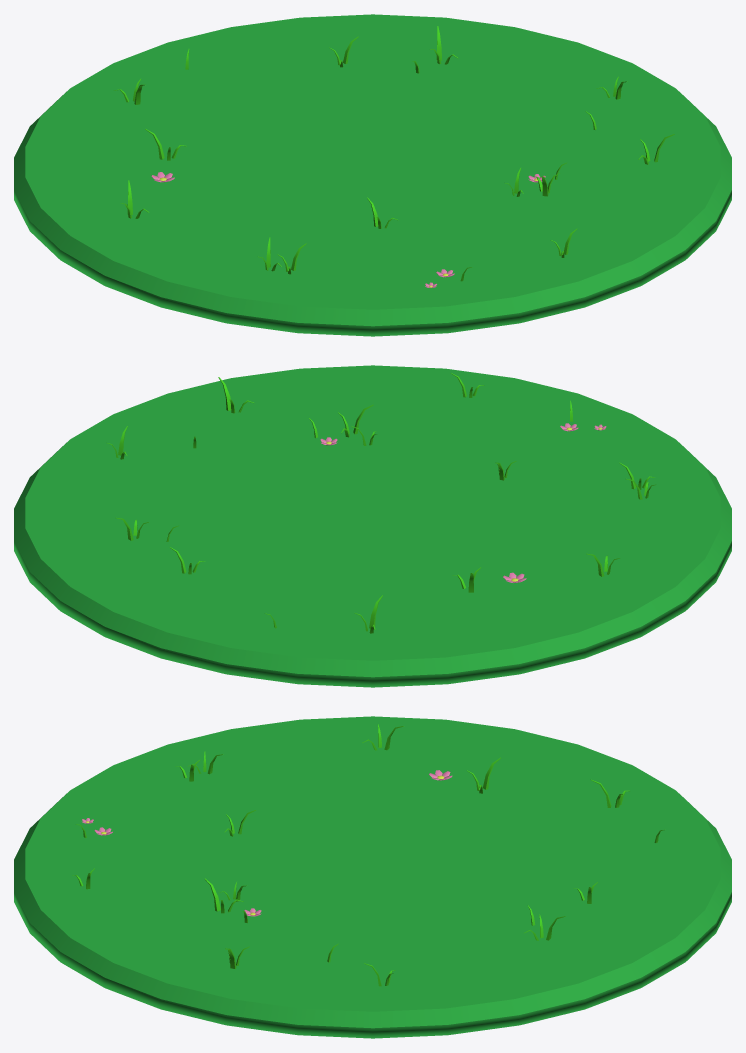
The model's file is Ground - Grass.FBX.
The picture shows the model from 3 angles, top to bottom: view 1: azimuth 30°, elevation 25°; view 2: azimuth 150°, elevation 25°; view 3: azimuth 270°, elevation 25°; orthographic projection.
Parts seen in each view (by area): view 1: Cylinder002; view 2: Cylinder002; view 3: Cylinder002.
Part boxes in pixels (<box>): Cylinder002: <box>14,14,731,336</box>; Cylinder002: <box>14,365,731,687</box>; Cylinder002: <box>14,716,731,1038</box>.
Bounding box in the file's own units: 148 × 10.91 × 147.
